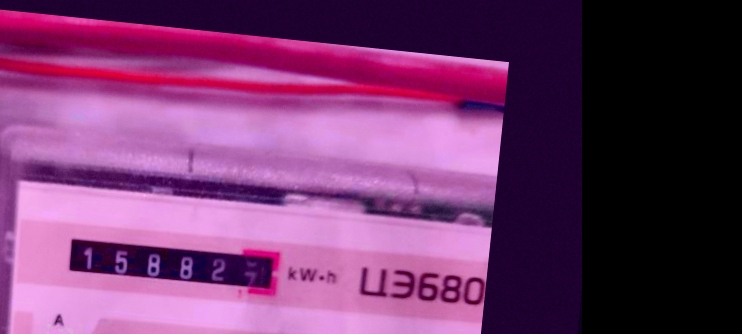1: (79, 244, 95, 270)
2: (209, 256, 226, 281)
5: (111, 246, 129, 274)
7: (241, 267, 257, 287)
8: (144, 251, 162, 278), (177, 253, 194, 280)
screen: (51, 221, 290, 307)
